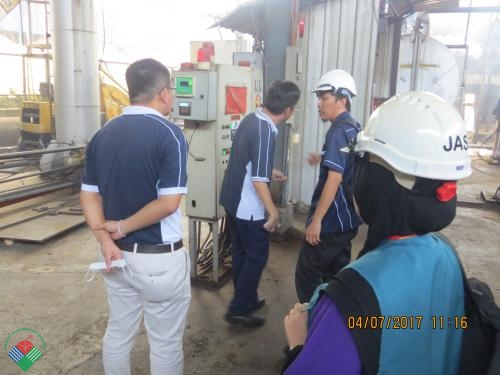No Safety Helmet: (123, 57, 180, 119), (262, 77, 301, 128)
Safety Helmet: (337, 85, 477, 242), (310, 66, 358, 121)
